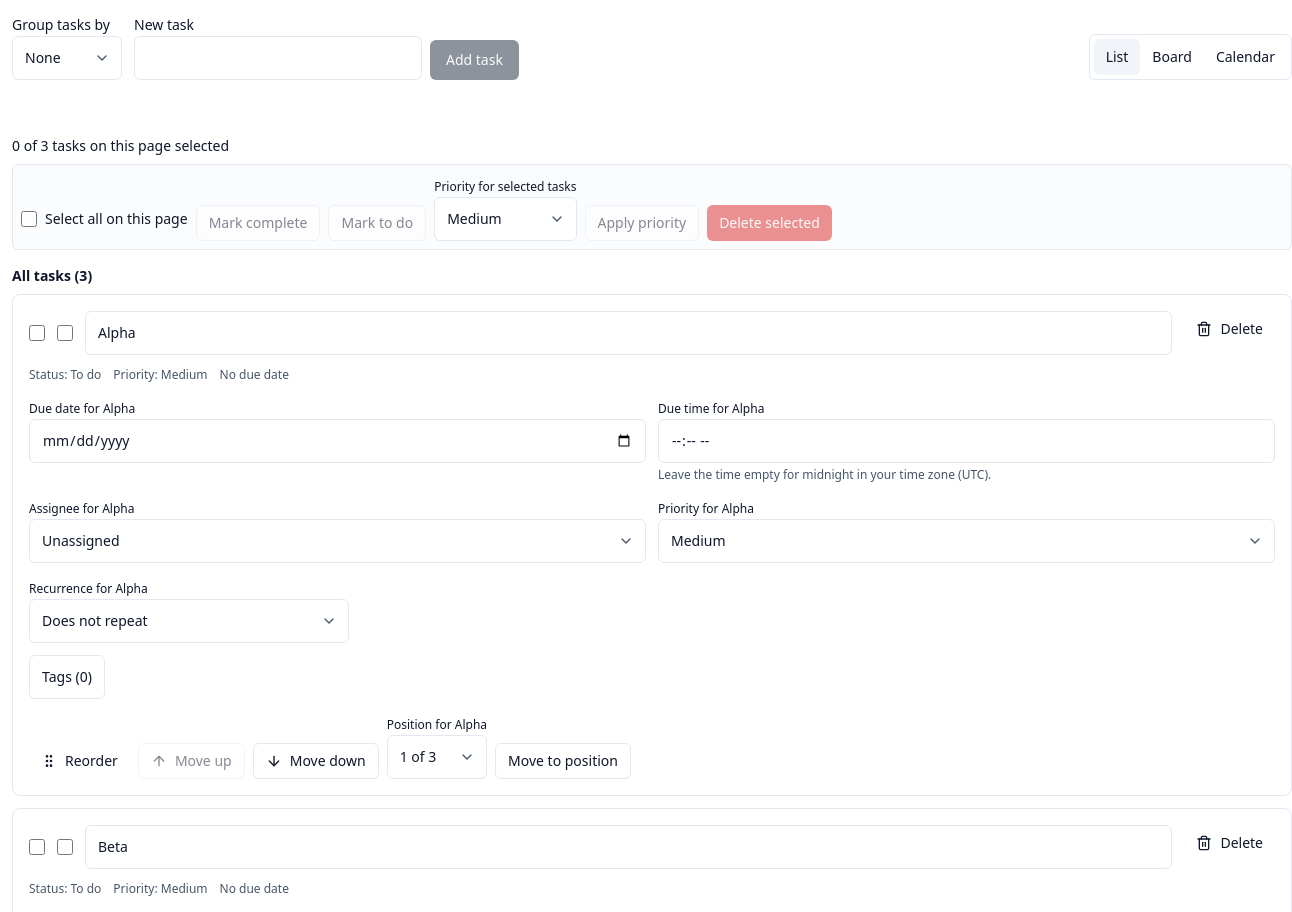
task reordering › restores the original order and announces a concurrent reorder conflict
Click the button named "Move down Alpha".
click(316, 761)  # box [253, 743, 379, 779]
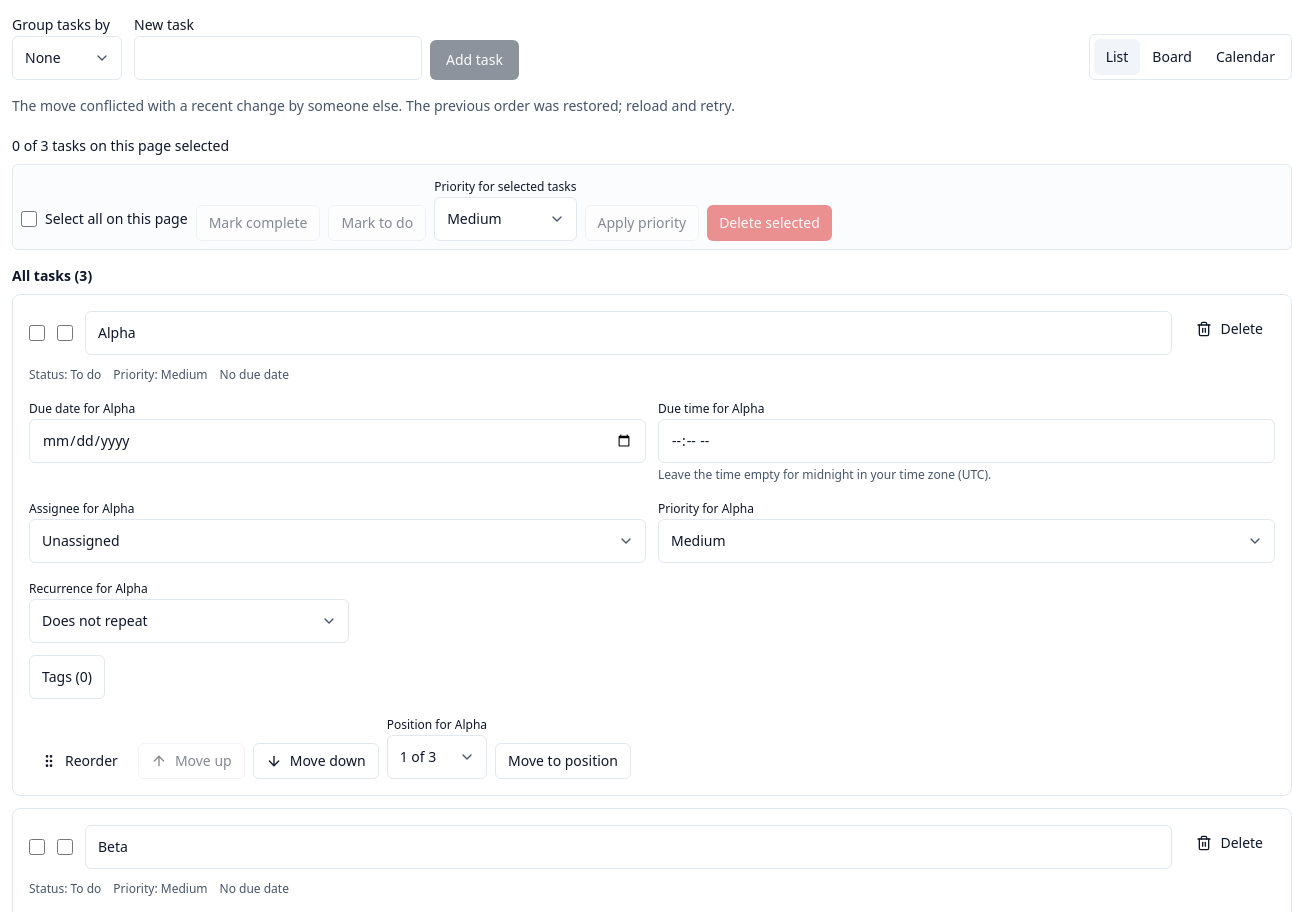
Now the text "conflicted with a recent change" is shown, box [12, 96, 735, 115]
